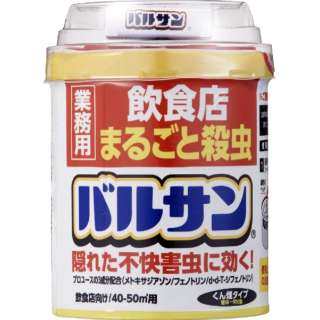Insecticide: (43, 1, 277, 320)
